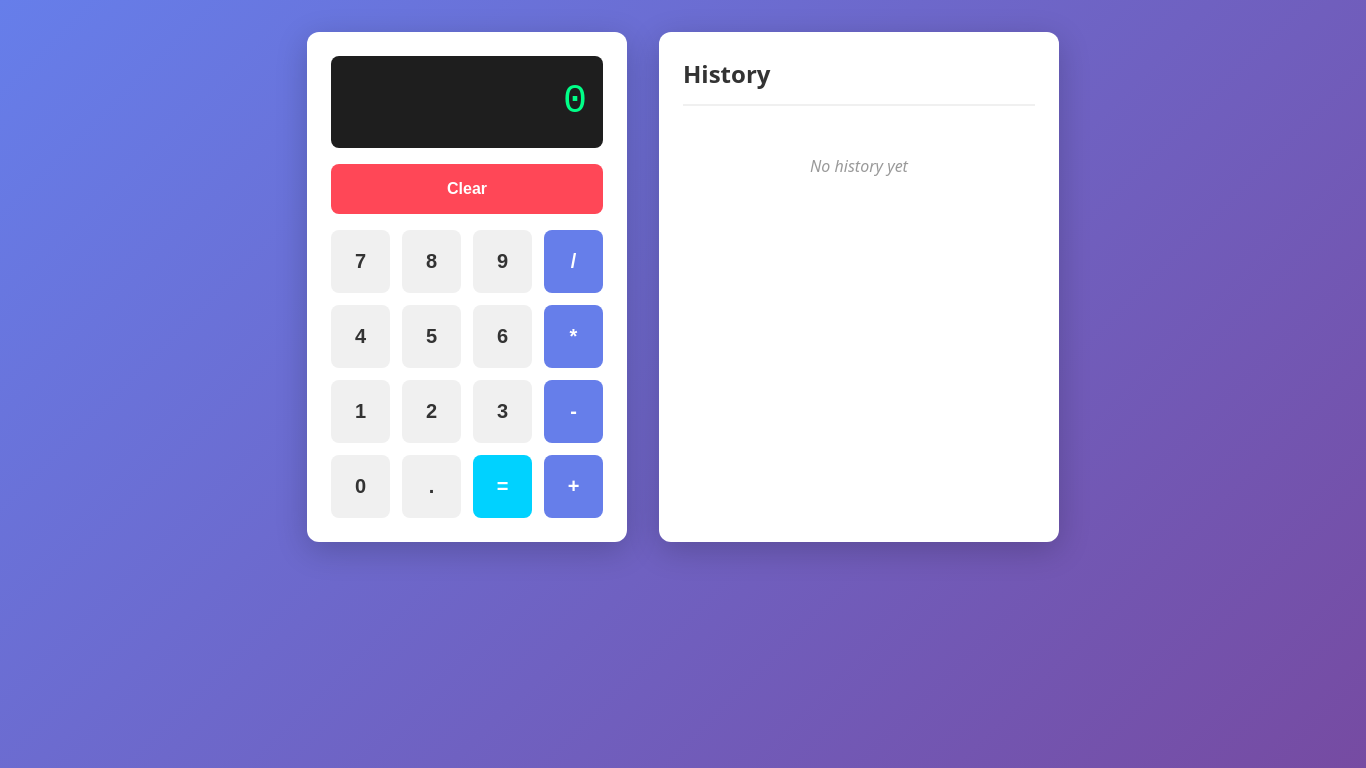
Test case: Calculator Component › Decimal input › should add decimal point
Click the button with test id "btn-5" at x=432, y=336, box [402,305,461,368]
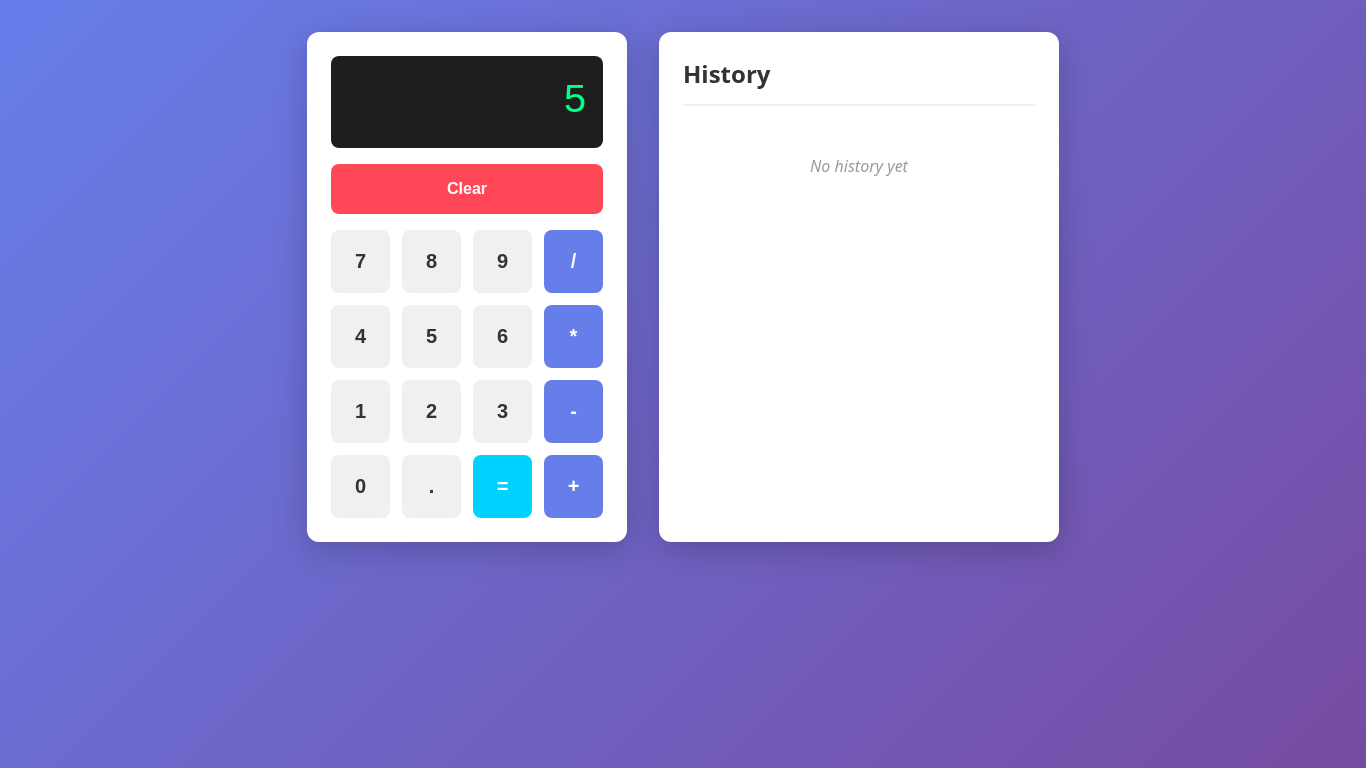
Click the button with test id "btn-." at x=432, y=486, box [402,455,461,518]
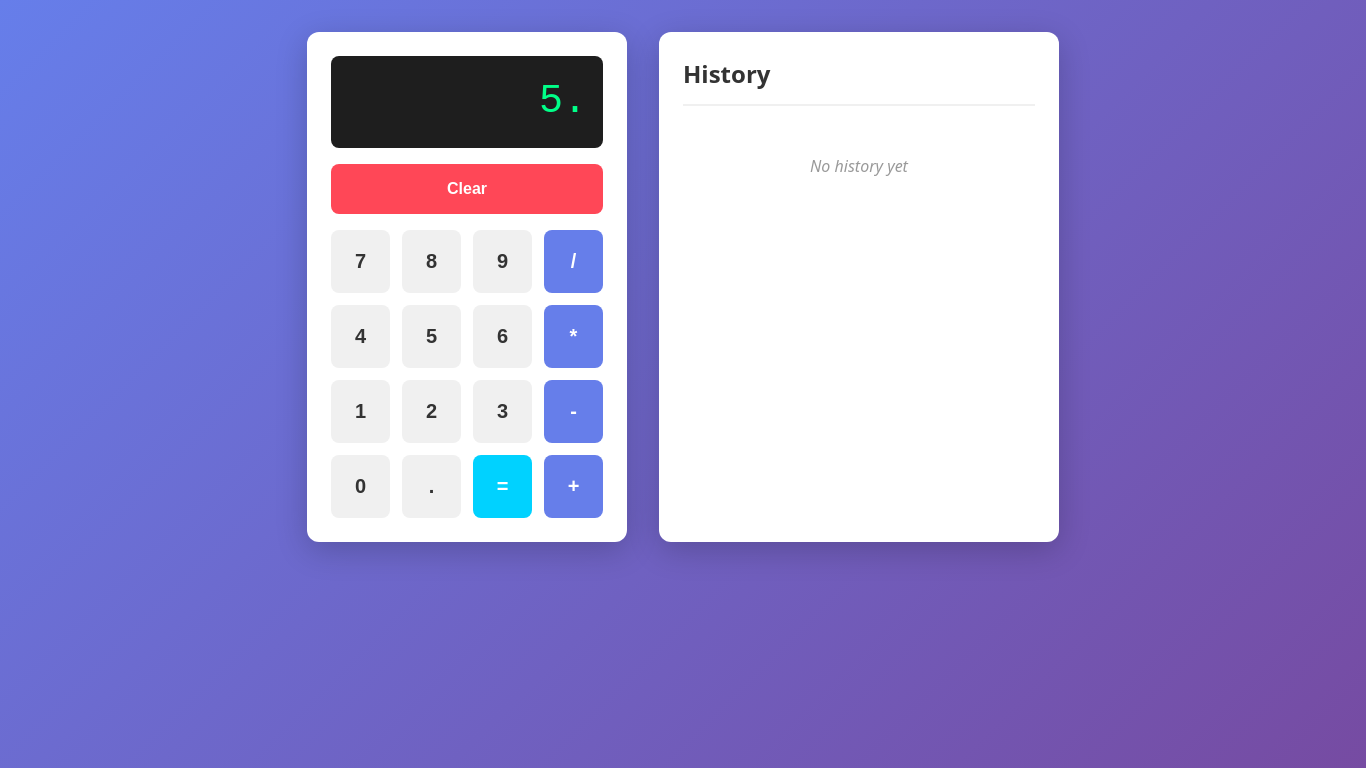
Click the button with test id "btn-2" at x=432, y=412, box [402,380,461,443]
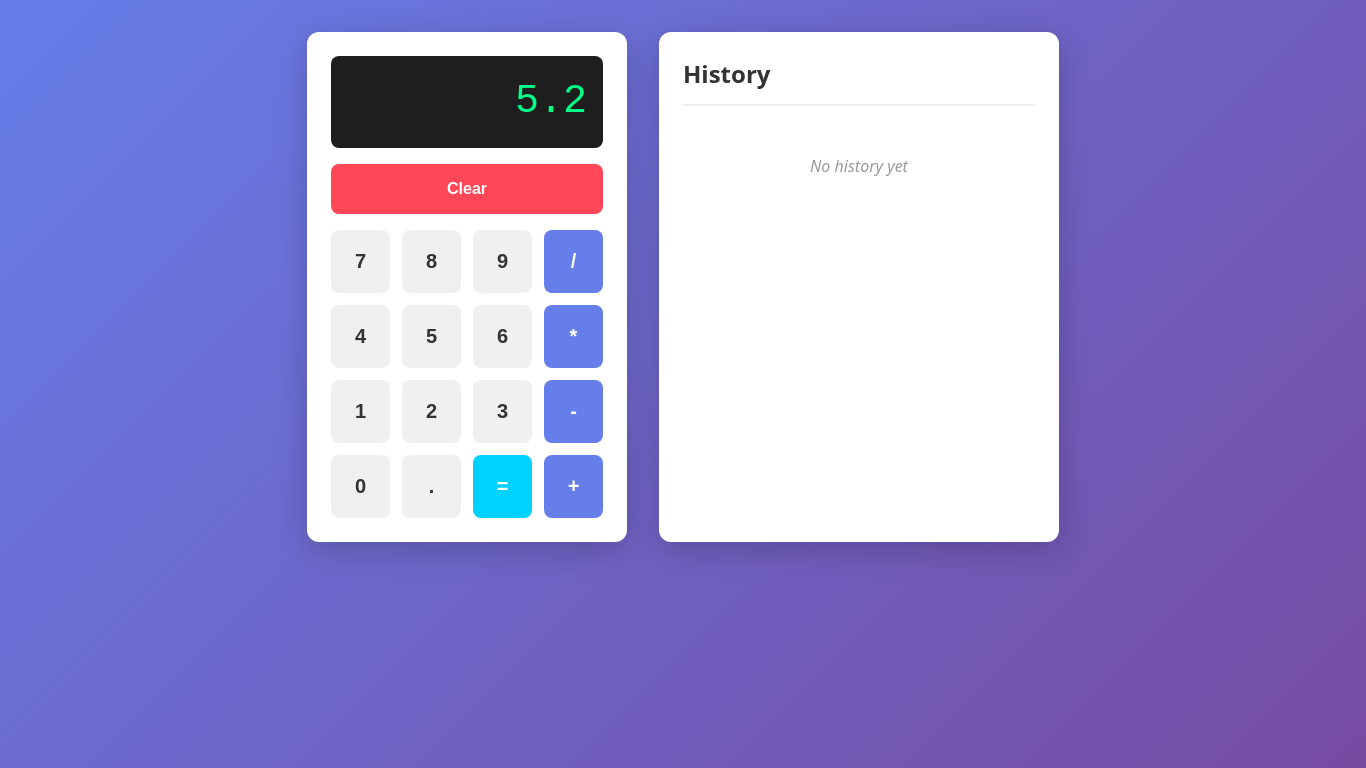
Expected: the text with test id "display" reads "5.2", [515,79,587,124]
